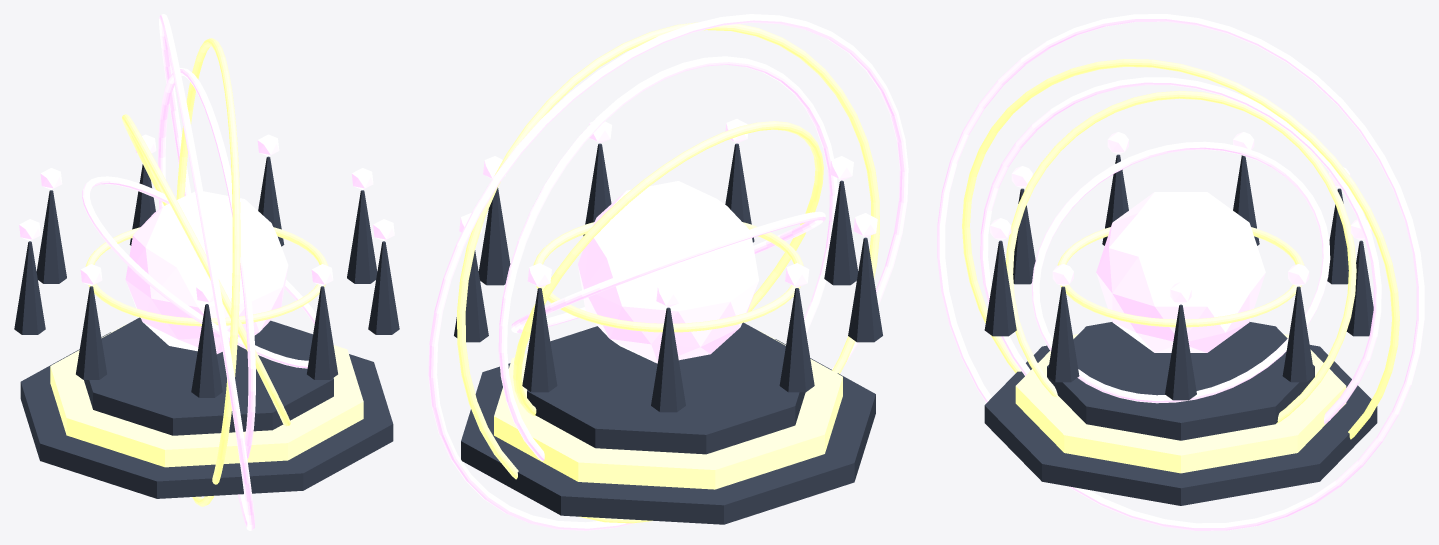
The model's file is gpu-blender-v33.glb.
3 renders of one model, left to right at view 1: azimuth 30°, elevation 25°; view 2: azimuth 150°, elevation 25°; view 3: azimuth 270°, elevation 25°, orthographic. The views are drawn at different scales.
Visible parts, largest first — view 1: Cylinder.002, Cylinder, SovereignCore_mcp-lens, Cylinder.001, Torus.005, Torus.004, Torus.003, Torus.001, Torus.002, Torus, Cone.006, Cone.004 (+7 smaller); view 2: Cylinder.002, SovereignCore_mcp-lens, Cylinder, Cylinder.001, Torus.005, Torus.004, Torus.003, Torus.002, Torus.001, Torus, Cone.003, Cone.005 (+7 smaller); view 3: SovereignCore_mcp-lens, Cylinder.002, Cylinder, Cylinder.001, Torus.005, Torus.004, Torus.003, Torus.002, Torus.001, Torus, Cone, Cone.001 (+7 smaller).
Part boxes in pixels (x1,y1,x2,y2): Cylinder.002: (84, 317, 333, 435); Cylinder: (20, 332, 393, 498); SovereignCore_mcp-lens: (125, 191, 288, 353); Cylinder.001: (50, 324, 363, 467); Torus.005: (159, 14, 254, 530); Torus.004: (176, 38, 240, 506); Torus.003: (158, 68, 255, 459); Torus.001: (82, 176, 316, 368); Torus.002: (122, 114, 290, 426); Torus: (85, 227, 327, 326); Cone.006: (191, 304, 222, 397); Cone.004: (14, 241, 45, 334); Cylinder.002: (527, 322, 805, 454); SovereignCore_mcp-lens: (578, 181, 758, 363); Cylinder: (461, 339, 875, 524); Cylinder.001: (494, 330, 842, 489); Torus.005: (428, 14, 908, 530); Torus.004: (457, 22, 879, 523); Torus.003: (498, 56, 838, 461); Torus.002: (513, 121, 823, 415); Torus.001: (511, 211, 825, 333); Torus: (533, 222, 803, 332); Cone.003: (651, 307, 685, 412); Cone.005: (848, 237, 882, 342); SovereignCore_mcp-lens: (1096, 192, 1265, 352); Cylinder.002: (1047, 322, 1314, 440); Cylinder: (984, 345, 1377, 505); Cylinder.001: (1015, 334, 1346, 473); Torus.005: (937, 14, 1424, 530); Torus.004: (962, 59, 1399, 439); Torus.003: (980, 77, 1381, 423); Torus.002: (1006, 90, 1356, 423); Torus.001: (1031, 141, 1330, 403); Torus: (1057, 227, 1304, 327); Cone: (1165, 304, 1196, 400); Cone.001: (1282, 286, 1314, 382).
Size of the model in its own units: 4.41 by 5.93 by 5.46.
